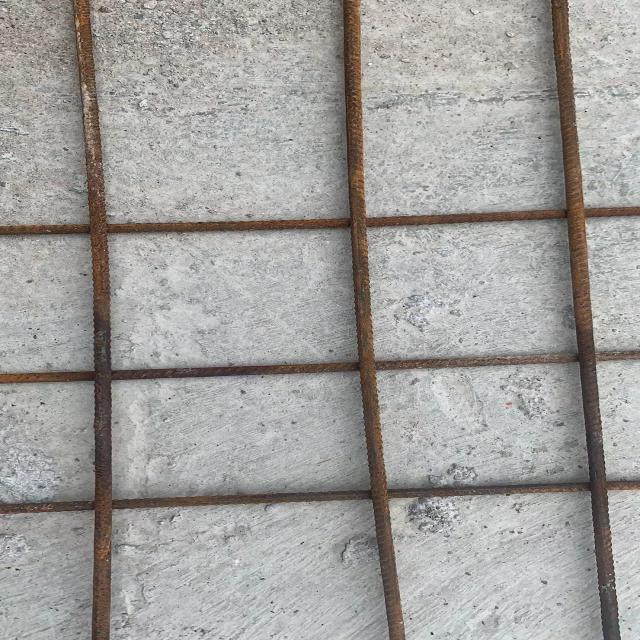ribbed bar: (327, 0, 407, 639), (545, 0, 621, 639), (70, 0, 121, 639), (0, 349, 639, 386), (0, 478, 639, 515), (0, 205, 639, 239)
